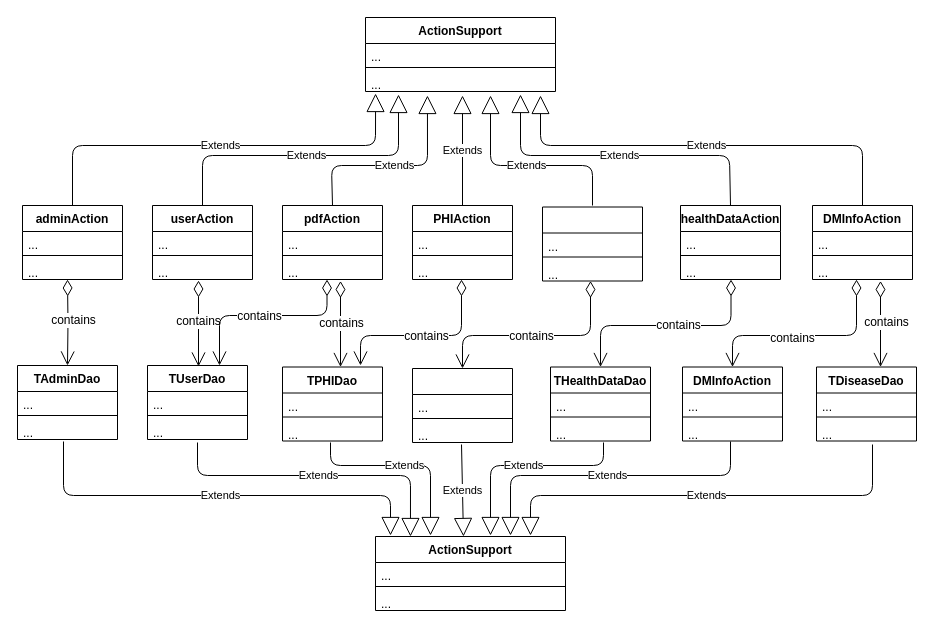
Image size: 934x631. Some labels were removed from this diagram. The shapes that lost their labels are listed below. From the top down, each one's box as (x1, y1, x2, y2) in pixels, then its label:
(542, 206, 642, 281): healthEduAction
(412, 368, 512, 442): THealthEduDao
